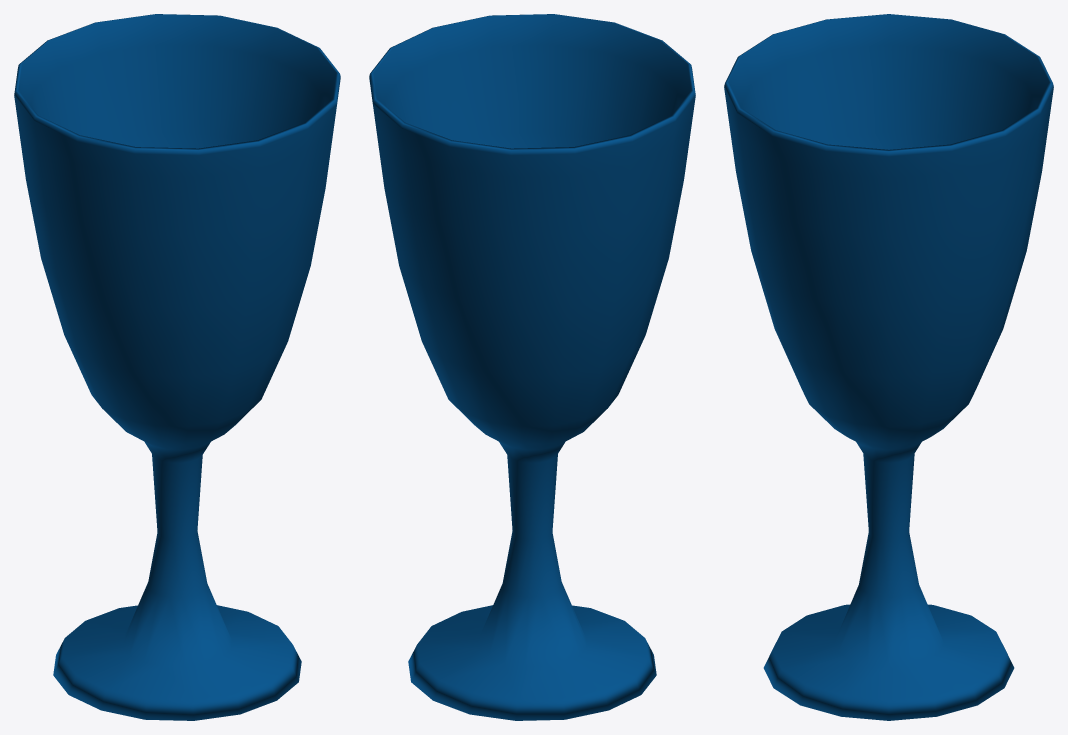
The model's file is Cup_01.fbx.
3 renders of one model, left to right at view 1: azimuth 30°, elevation 25°; view 2: azimuth 150°, elevation 25°; view 3: azimuth 270°, elevation 25°, orthographic.
Visible parts, largest first — view 1: Cup_01; view 2: Cup_01; view 3: Cup_01.
Boxes of the visible parts, <box> form: Cup_01: <box>14,14,340,720</box>; Cup_01: <box>369,14,695,720</box>; Cup_01: <box>724,14,1053,720</box>.
Size of the model in its own units: 15.38 by 30.14 by 15.38.
